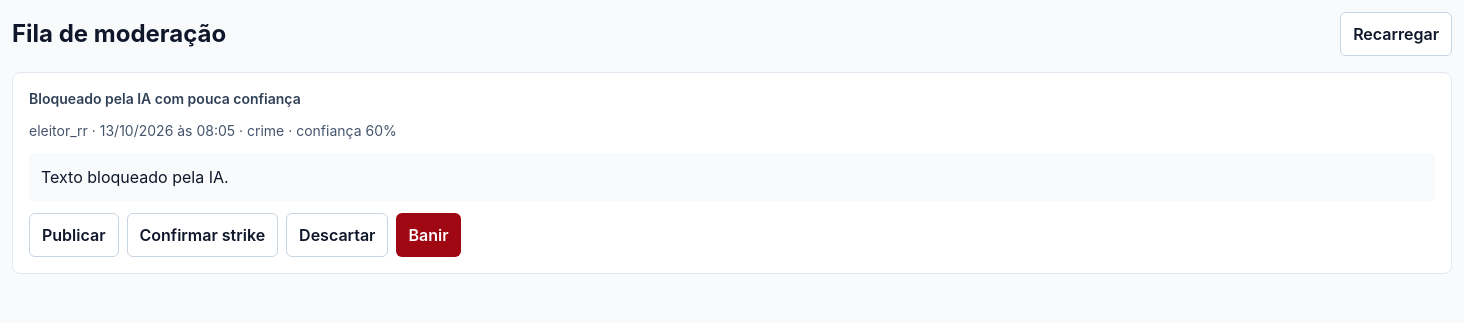
Test: AdminModeracao › item já resolvido (409) mostra o aviso e mantém a fila
Click the button "Publicar" at (74, 235), box [29, 213, 118, 257]
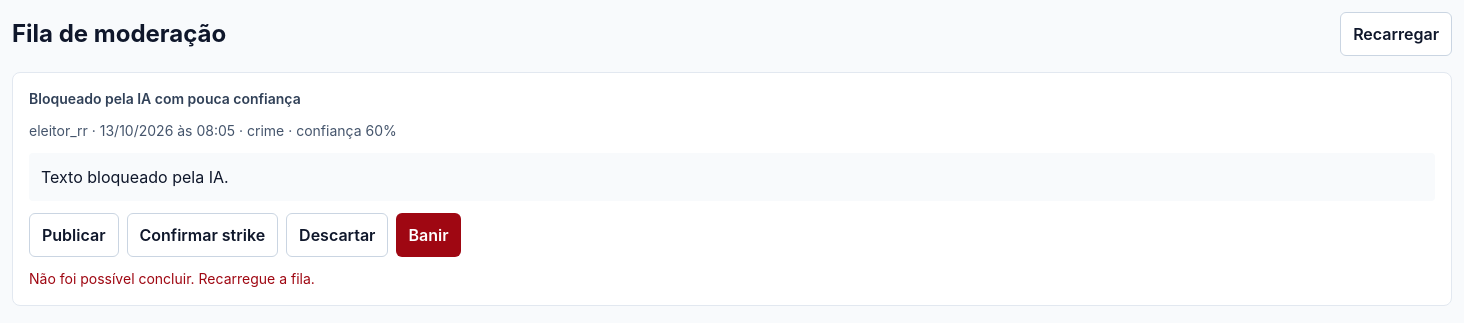
Check: the text "Texto bloqueado pela IA." is shown, box [29, 153, 1435, 201]
Check: the text "Não foi possível concluir. Recarregue a fila." is shown, box [29, 270, 315, 287]
